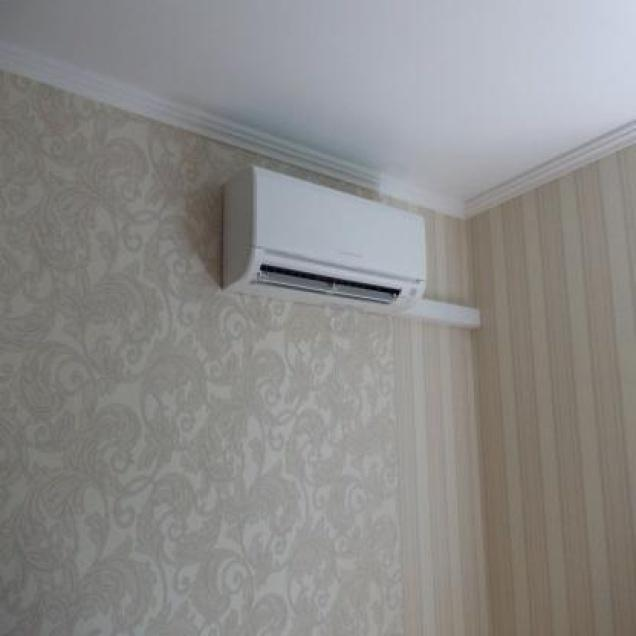AC: (221, 163, 426, 319)
